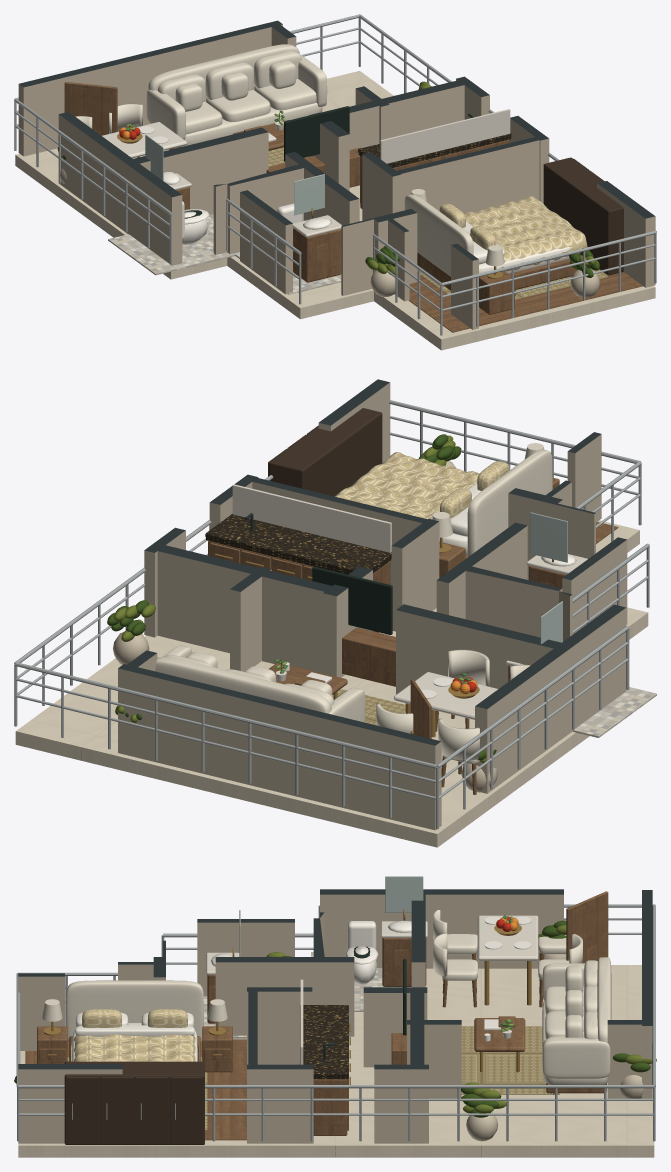
The picture shows the model from 3 angles, top to bottom: view 1: azimuth 30°, elevation 25°; view 2: azimuth 150°, elevation 25°; view 3: azimuth 270°, elevation 25°; orthographic projection. The views are drawn at different scales.
Visible parts, largest first — view 1: Source-traced internal and perimeter walls • Wall, Continuous apartment foundation, Fitted dark wardrobe, Soft jacquard duvet with folds, Full bedroom wood flooring, Backsplash, Padded headboard, Bathroom mosaic floor, Vanity.001, Oak entrance door, Television, Sofa back (+34 smaller); view 2: Source-traced internal and perimeter walls • Wall, Continuous apartment foundation, Fitted dark wardrobe, Soft jacquard duvet with folds, Backsplash, Deep green kitchen stone, Padded headboard, Sofa back, Television, Walnut media console, Balcony top rail.005, Dining top (+18 smaller); view 3: Source-traced internal and perimeter walls • Wall, Continuous apartment foundation, Padded headboard, Living patterned carpet, Soft jacquard duvet with folds, Deep green kitchen stone, Full bedroom wood flooring, Rounded armrest, Fitted dark wardrobe, Oak entrance door, Walnut wardrobe door.001, Walnut wardrobe door.002 (+35 smaller).
Boxes of the visible parts, x1,y1,x2,y2 form: Source-traced internal and perimeter walls • Wall: [18, 20, 655, 329]; Continuous apartment foundation: [15, 71, 655, 350]; Fitted dark wardrobe: [543, 157, 623, 275]; Soft jacquard duvet with folds: [464, 196, 587, 271]; Full bedroom wood flooring: [409, 269, 642, 332]; Backsplash: [380, 109, 510, 163]; Padded headboard: [404, 194, 473, 276]; Bathroom mosaic floor: [108, 214, 239, 275]; Vanity.001: [293, 228, 341, 282]; Oak entrance door: [64, 82, 117, 135]; Television: [284, 106, 349, 161]; Sofa back: [148, 44, 299, 101]; Source-traced internal and perimeter walls • Wall: [118, 379, 627, 830]; Continuous apartment foundation: [15, 520, 648, 847]; Fitted dark wardrobe: [269, 408, 382, 496]; Soft jacquard duvet with folds: [334, 452, 479, 519]; Backsplash: [232, 484, 391, 552]; Deep green kitchen stone: [205, 514, 391, 572]; Padded headboard: [467, 449, 552, 556]; Sofa back: [155, 657, 331, 713]; Television: [312, 566, 392, 634]; Walnut media console: [342, 627, 395, 686]; Balcony top rail.005: [14, 662, 437, 768]; Dining top: [394, 672, 497, 719]; Source-traced internal and perimeter walls • Wall: [18, 889, 652, 1143]; Continuous apartment foundation: [18, 965, 654, 1157]; Padded headboard: [66, 980, 203, 1042]; Living patterned carpet: [461, 1026, 559, 1094]; Soft jacquard duvet with folds: [71, 1034, 198, 1061]; Deep green kitchen stone: [300, 1005, 348, 1076]; Full bedroom wood flooring: [25, 1039, 246, 1140]; Rounded armrest: [542, 1037, 610, 1078]; Fitted dark wardrobe: [64, 1061, 204, 1144]; Oak entrance door: [566, 891, 608, 963]; Walnut wardrobe door.001: [135, 1077, 168, 1144]; Walnut wardrobe door.002: [101, 1077, 134, 1144].
Size of the model in its own units: 6.27 by 1.7 by 8.8.
25 materials, 6 textured.
